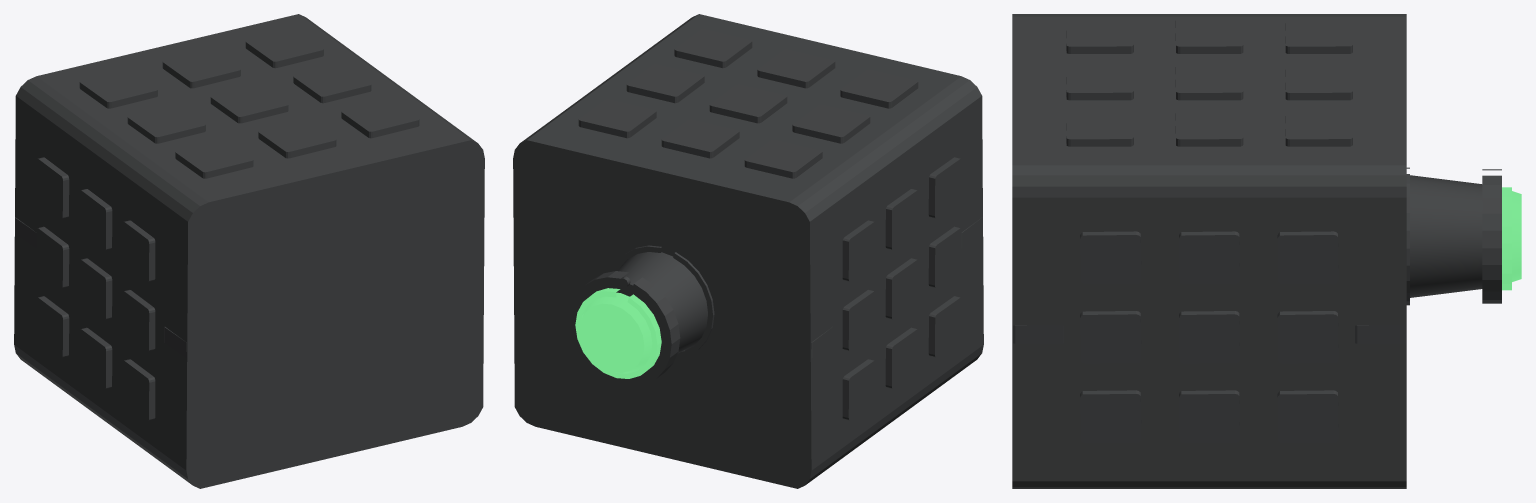
The model's file is equipment_snapshot.glb.
3 renders of one model, left to right at view 1: azimuth 30°, elevation 25°; view 2: azimuth 150°, elevation 25°; view 3: azimuth 270°, elevation 25°, orthographic. The views are drawn at different scales.
Visible parts, largest first — view 1: equipment_snapshot__equipment_snapshot; view 2: equipment_snapshot__equipment_snapshot, equipment_snapshot__lens; view 3: equipment_snapshot__equipment_snapshot, equipment_snapshot__lens.
Part boxes in pixels (x1=…): equipment_snapshot__equipment_snapshot: x1=14, y1=14, x2=484, y2=488; equipment_snapshot__equipment_snapshot: x1=513, y1=14, x2=983, y2=488; equipment_snapshot__lens: x1=575, y1=288, x2=661, y2=378; equipment_snapshot__equipment_snapshot: x1=1012, y1=14, x2=1501, y2=488; equipment_snapshot__lens: x1=1502, y1=187, x2=1521, y2=290.
Size of the model in its own units: 0.252 by 0.258 by 0.31.
